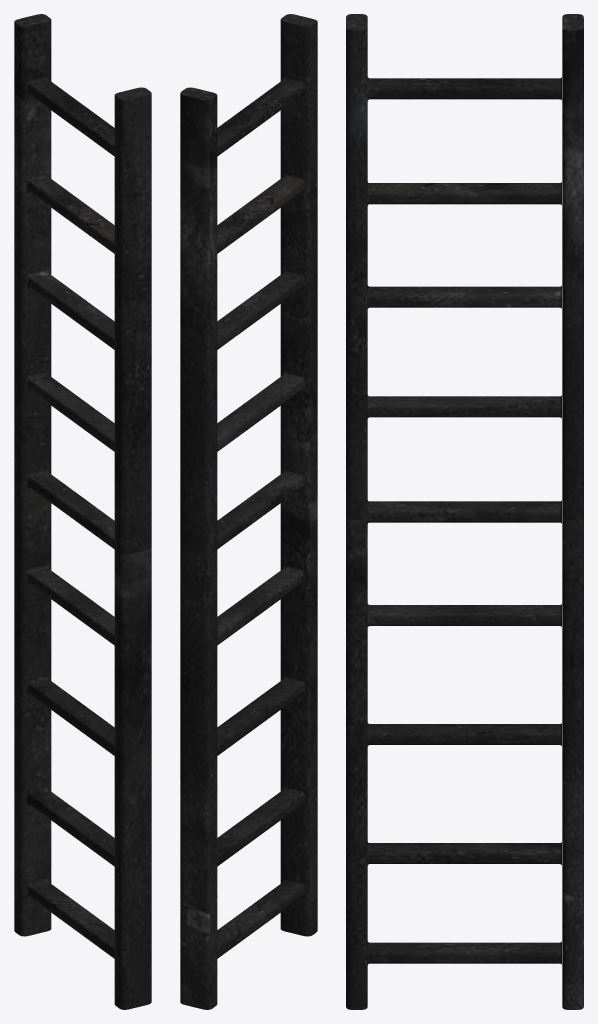
File: SM_Ladder_01.fbx
3 views of the same model, side by side, from view 1: azimuth 30°, elevation 25°; view 2: azimuth 150°, elevation 25°; view 3: azimuth 270°, elevation 25° (orthographic). The views are drawn at different scales.
Parts seen in each view (by area): view 1: SM_Ladder_01; view 2: SM_Ladder_01; view 3: SM_Ladder_01.
Boxes of the visible parts, left/top/right/bottom form: SM_Ladder_01: left=14, top=14, right=151, bottom=1009; SM_Ladder_01: left=180, top=14, right=317, bottom=1009; SM_Ladder_01: left=346, top=14, right=583, bottom=1009.
Bounding box in the file's own units: 16.66 × 103 × 468.
1 material, 1 textured.
